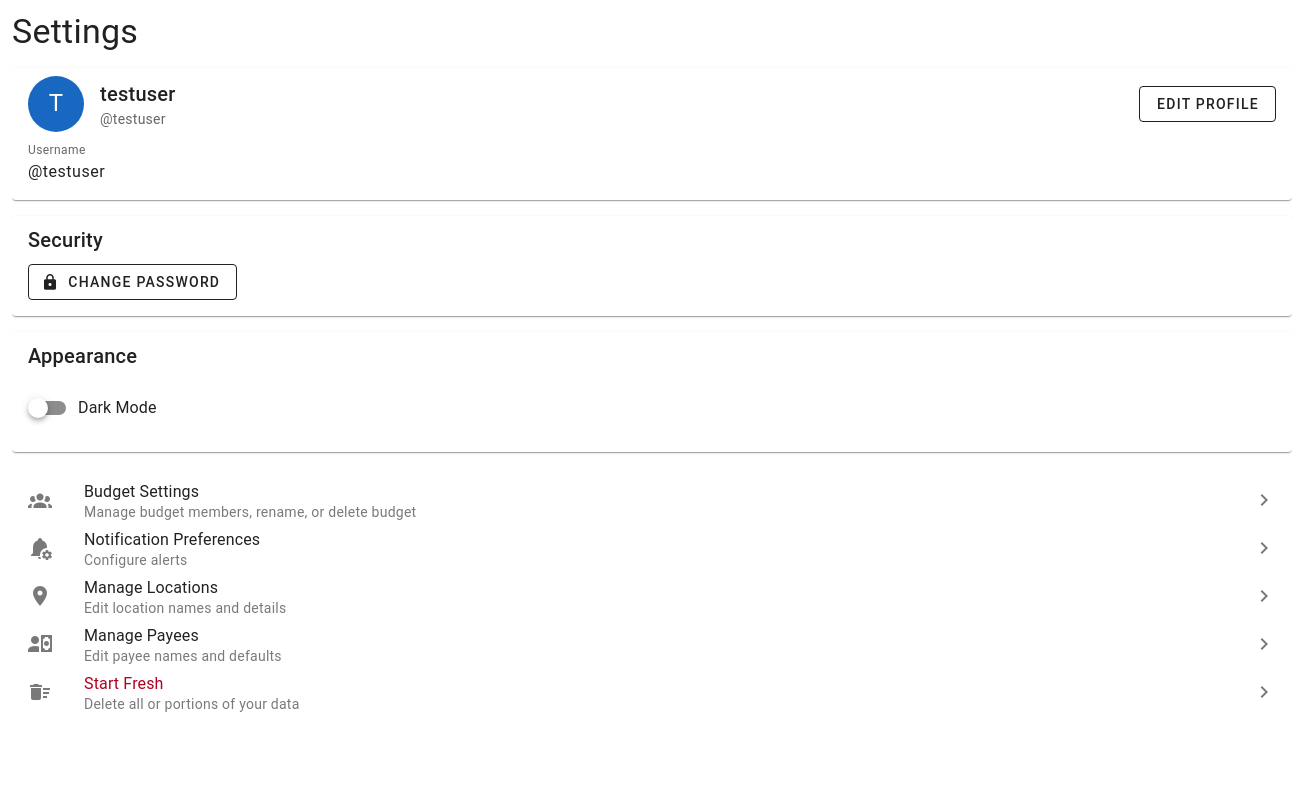
it: SettingsView › can cancel profile editing
The image size is (1292, 812).
Start editing
Step 1. Click the button "Edit Profile" → (1207, 104), box [1139, 86, 1276, 122]
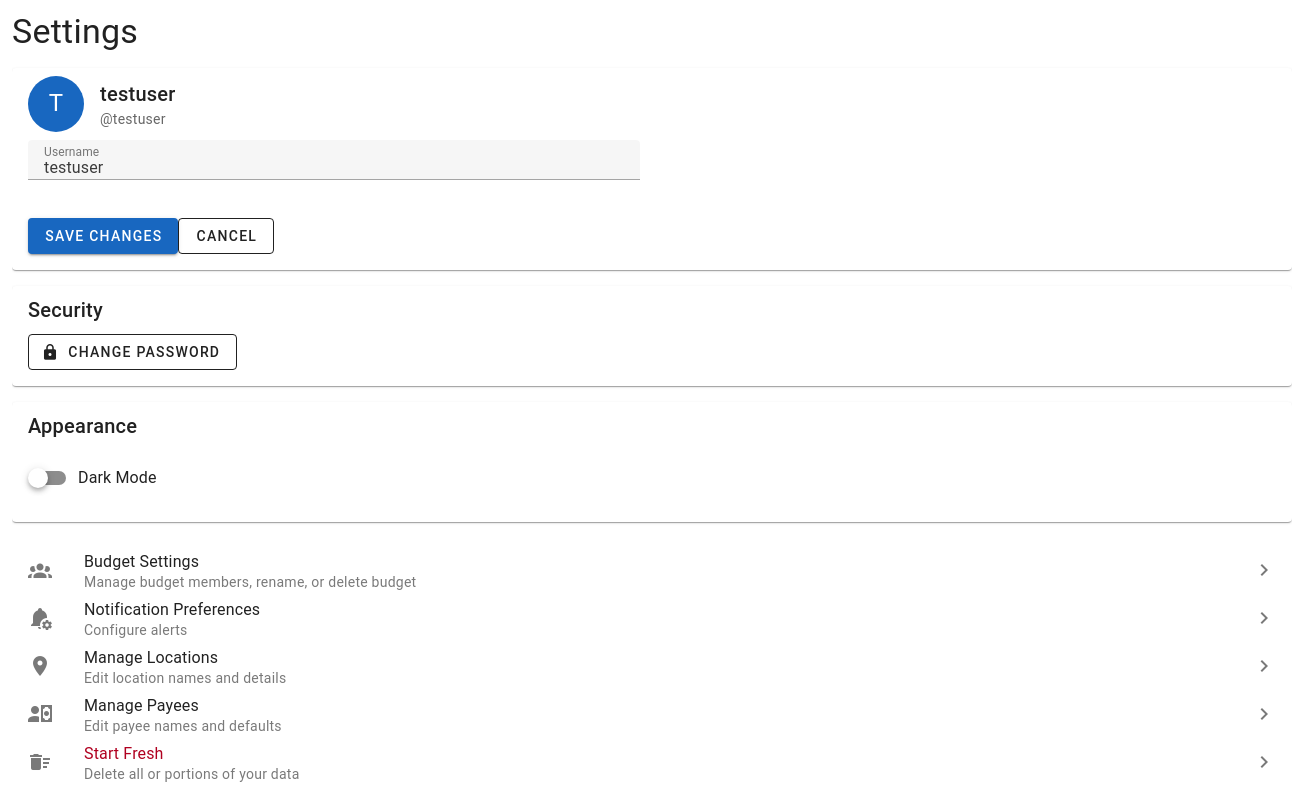
Step 2. Click the button "Cancel" → (226, 236), box [178, 218, 274, 254]
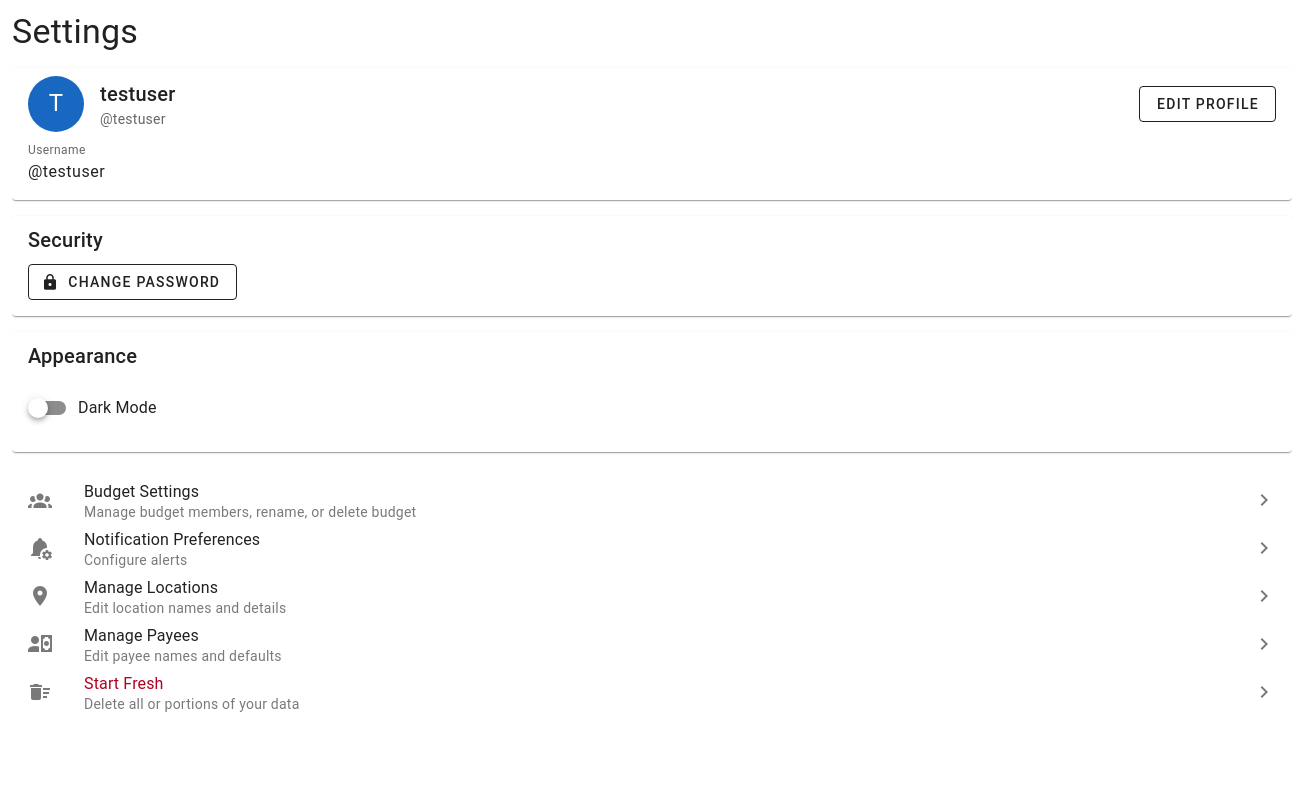
Result: the text "Edit Profile" is shown at [1156, 96, 1259, 112]
Result: the text "Save Changes" is gone
